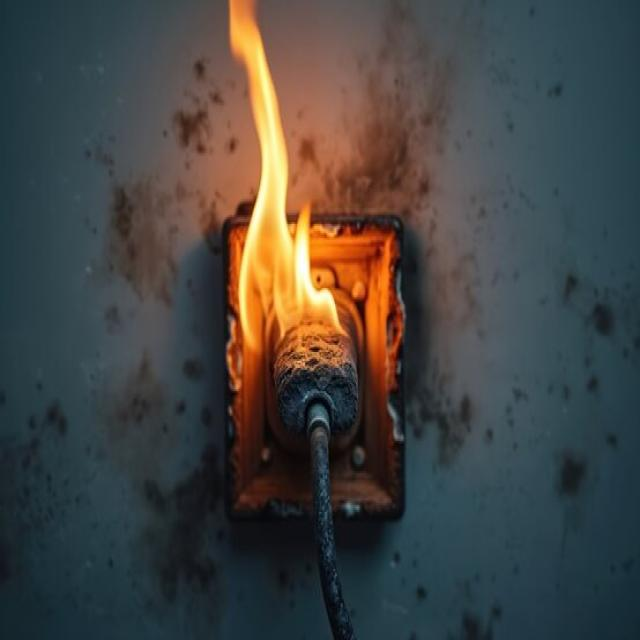fire: (227, 0, 347, 348)
